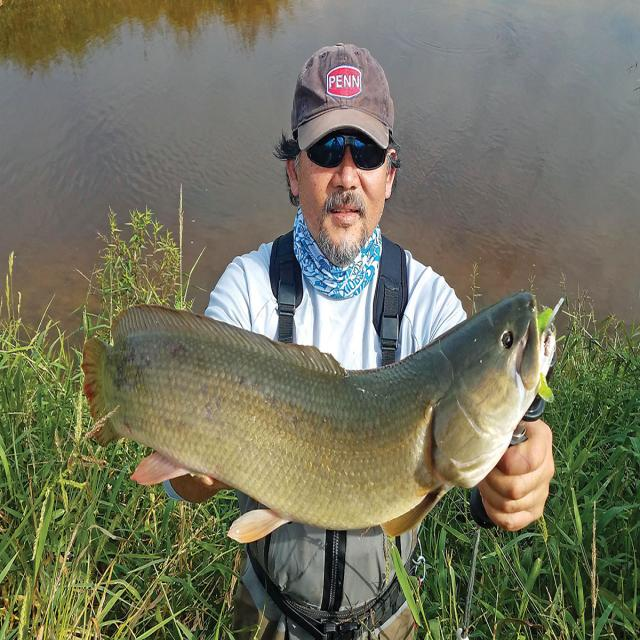Bowfin: (82, 293, 555, 542)
